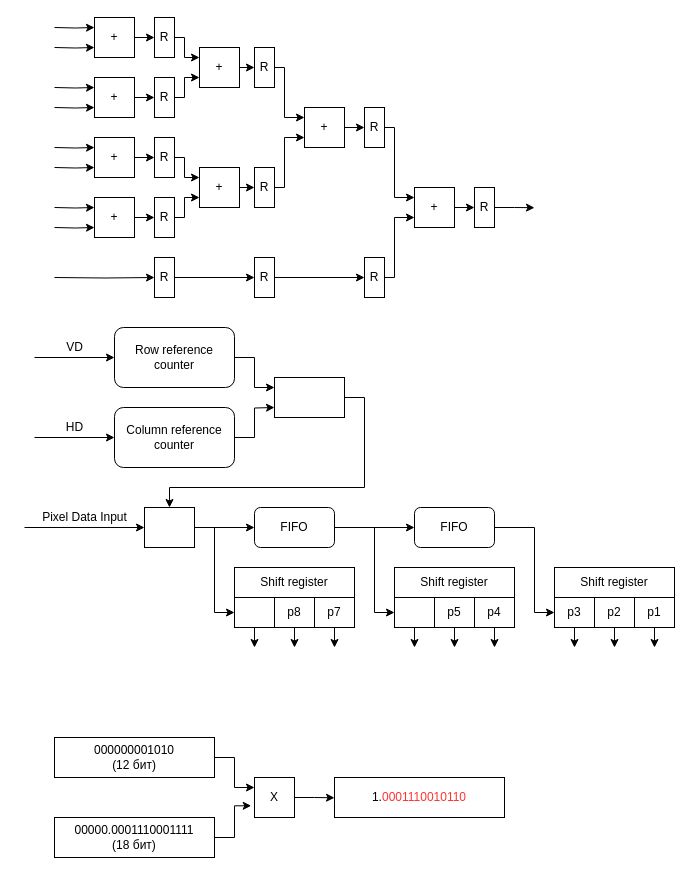
Some shapes in this 692 by 875 pixel diagram are drawn without their labels. Each missing label, with the centre of its shape:
Gate: point (169, 527)
Logical OR: point (309, 397)
p6: point (414, 612)
p9: point (254, 612)
